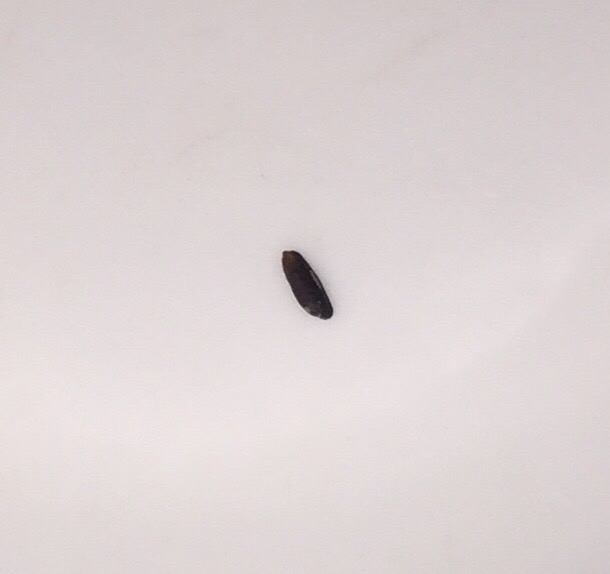Gao Nep Cam: (274, 243, 338, 323)
